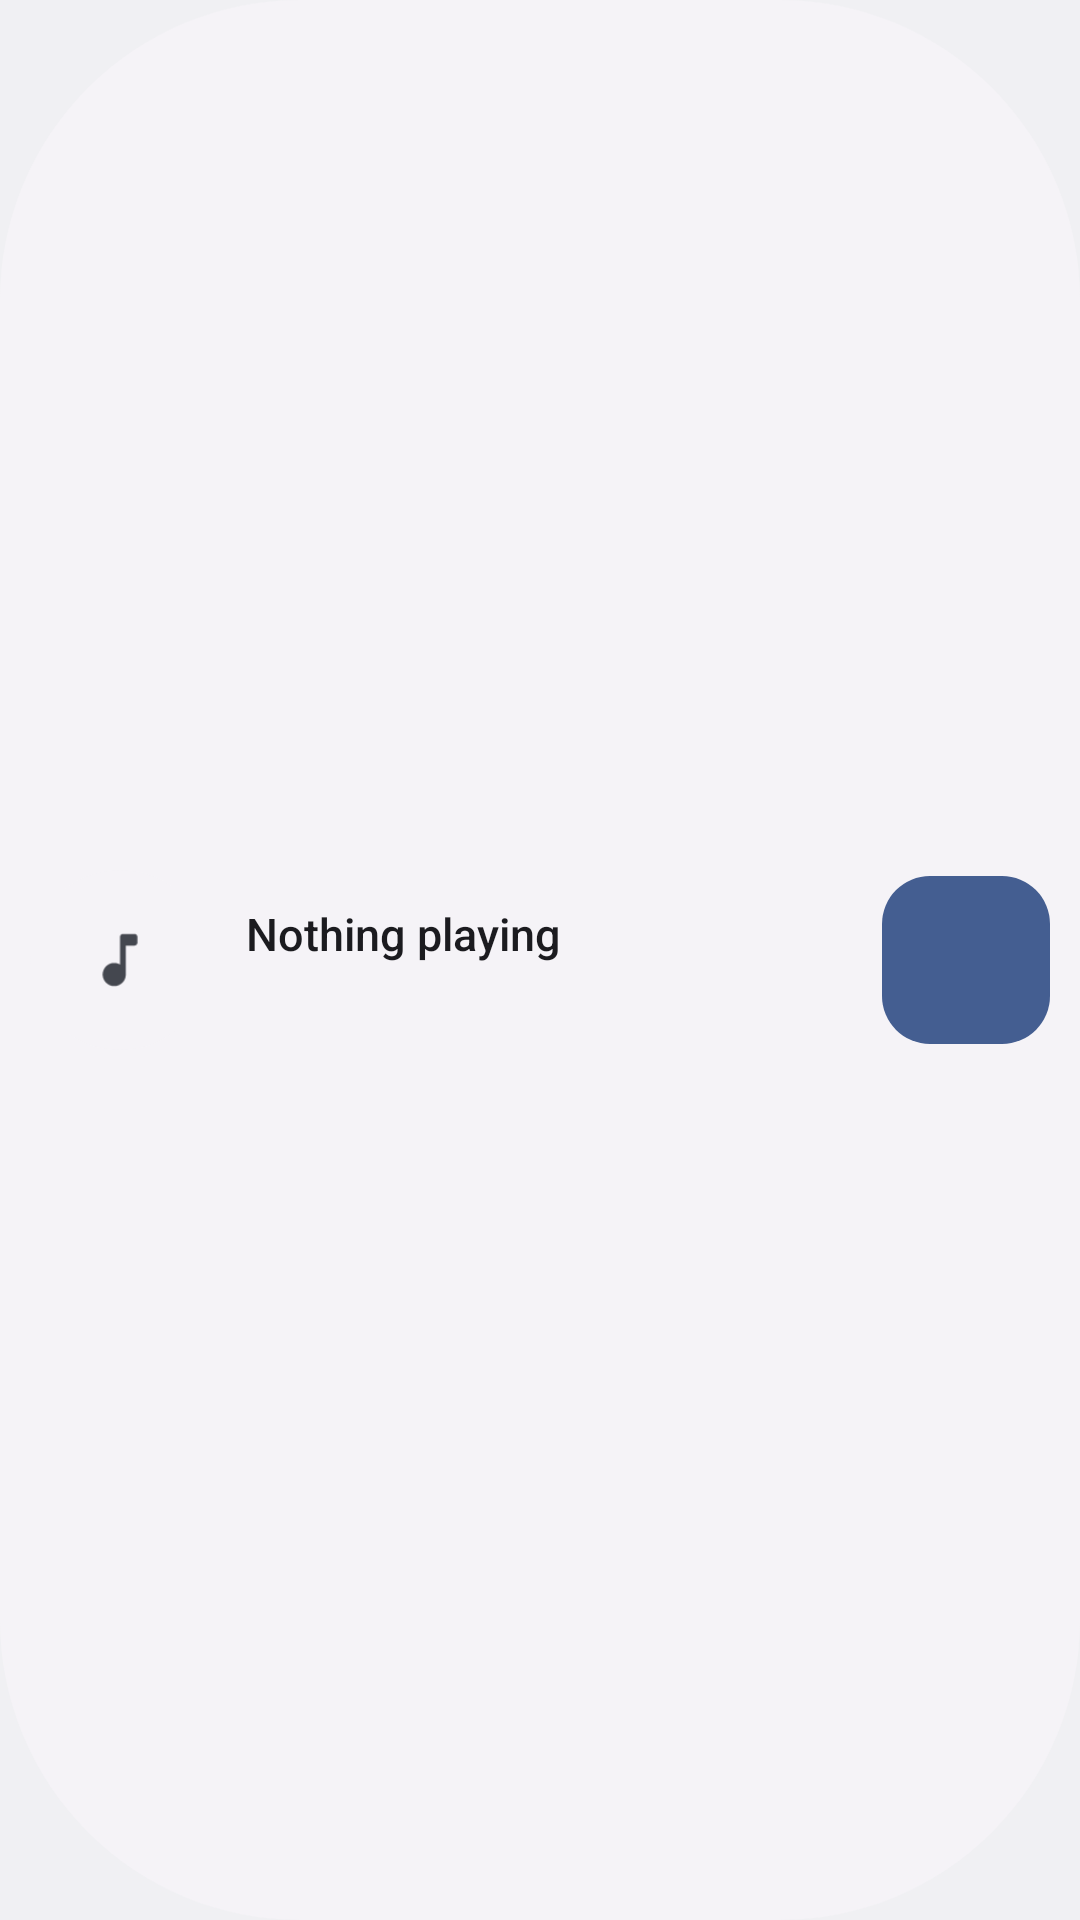

Screen size 1080px×1920px. Icon name, then its box in pixels as (x1, y1, x2, y2):
widget circle note: (102, 933, 138, 987)
